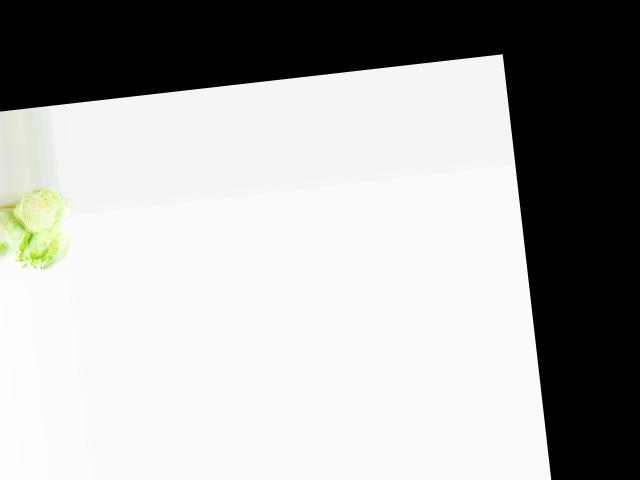lettuce: (8, 223, 74, 278)
